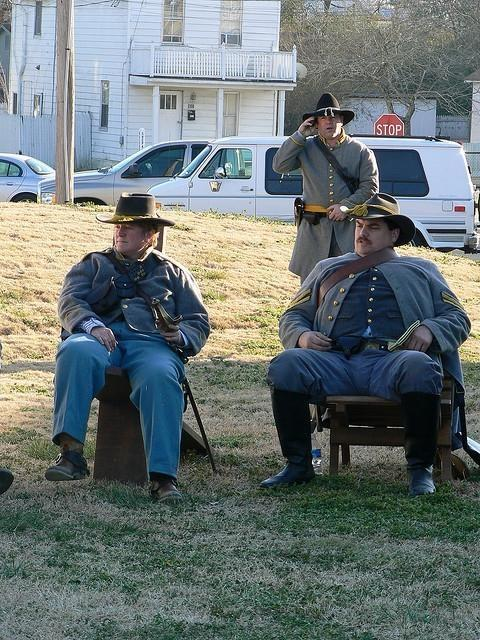car: (148, 134, 479, 254), (37, 140, 217, 205), (0, 151, 55, 204)
truck: (36, 140, 246, 207)
